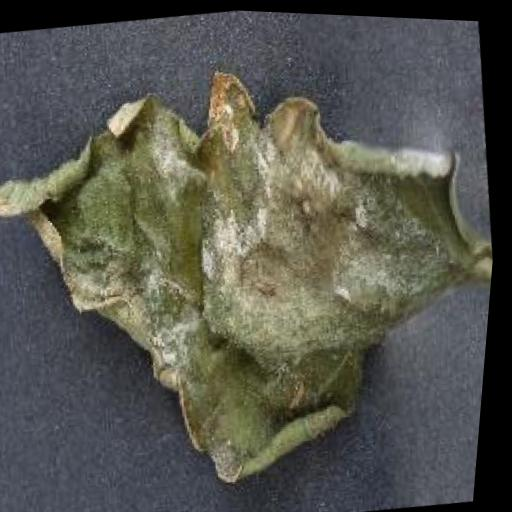Late Blight: (0, 23, 511, 512)
